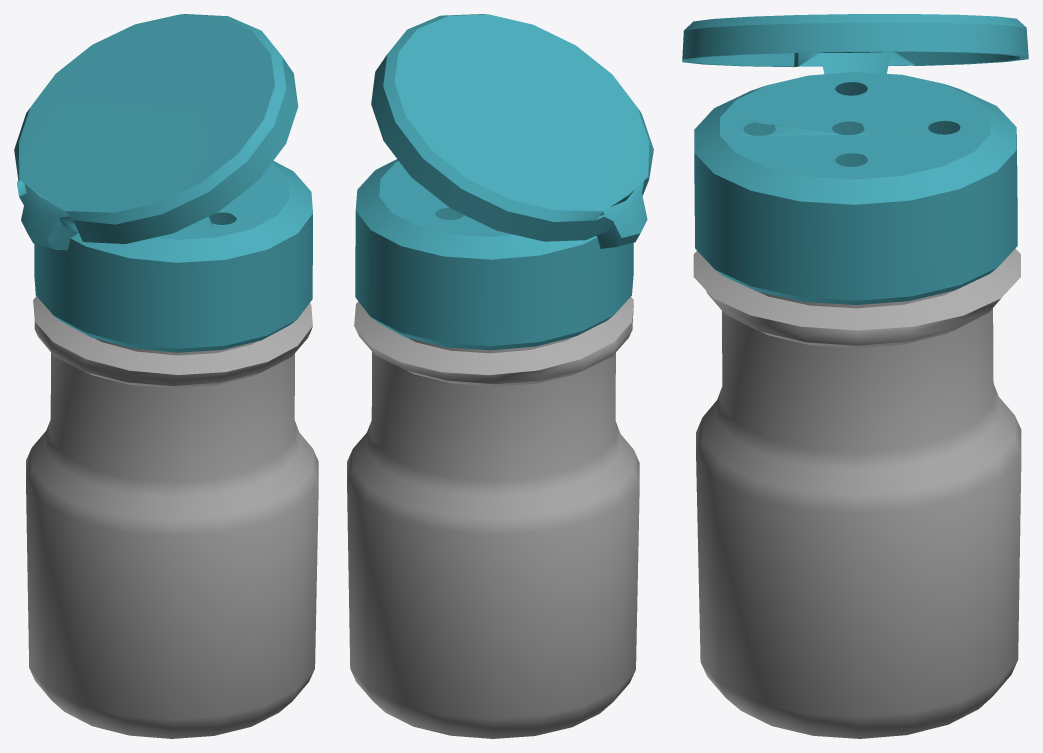
The model's file is BEKAS LADA.FBX.
3 renders of one model, left to right at view 1: azimuth 30°, elevation 25°; view 2: azimuth 150°, elevation 25°; view 3: azimuth 270°, elevation 25°, orthographic. The views are drawn at different scales.
Parts seen in each view (by area): view 1: Cylinder001; view 2: Cylinder001; view 3: Cylinder001.
Boxes of the visible parts, <box> form: Cylinder001: <box>14,14,318,738</box>; Cylinder001: <box>347,14,653,738</box>; Cylinder001: <box>682,14,1028,738</box>.
Size of the model in its own units: 38.8 by 86.35 by 38.17.
